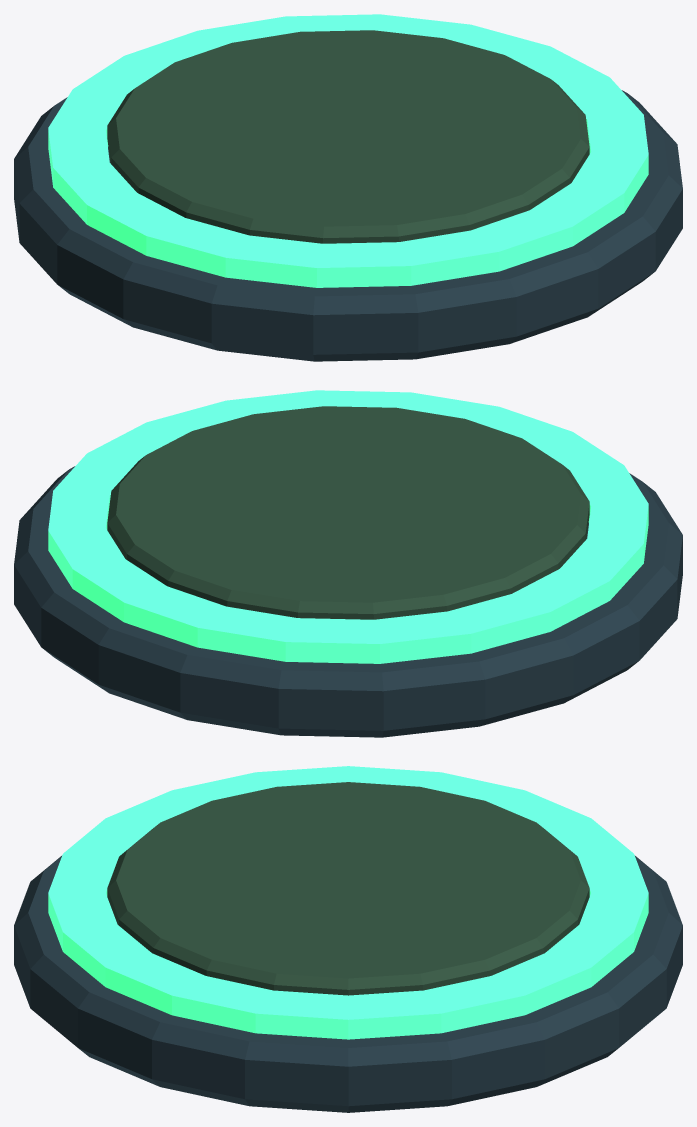
Rendered from PF_AlienEggPedestal.fbx.
3 views of the same model, one above another, from view 1: azimuth 30°, elevation 25°; view 2: azimuth 150°, elevation 25°; view 3: azimuth 270°, elevation 25° (orthographic).
Visible parts, largest first — view 1: EggPedestal_Top, EggPedestal_Base, EggPedestal_GlowRing; view 2: EggPedestal_Top, EggPedestal_Base, EggPedestal_GlowRing; view 3: EggPedestal_Top, EggPedestal_Base, EggPedestal_GlowRing.
Part boxes in pixels (x1,y1,x2,y2): EggPedestal_Top: (107,30,589,243); EggPedestal_Base: (14,90,682,361); EggPedestal_GlowRing: (48,14,648,287); EggPedestal_Top: (107,406,589,619); EggPedestal_Base: (14,466,682,737); EggPedestal_GlowRing: (48,390,648,663); EggPedestal_Top: (107,782,589,995); EggPedestal_Base: (14,856,682,1112); EggPedestal_GlowRing: (48,766,648,1039).
Bounding box in the file's own units: 4.3 × 0.69 × 4.3.
